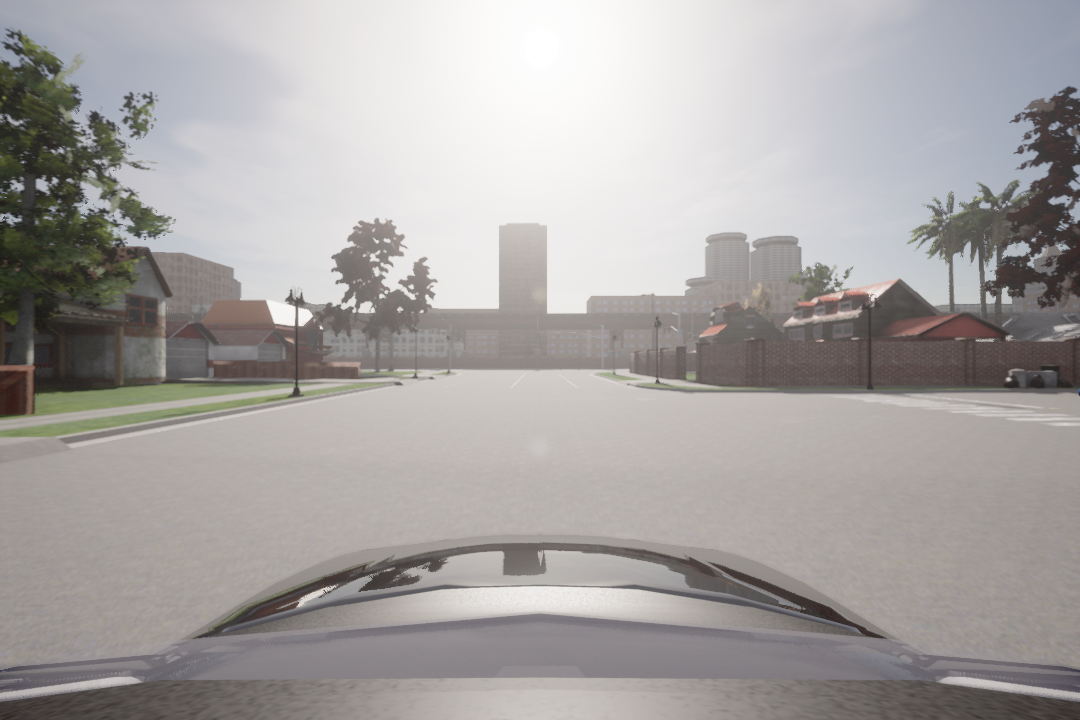walkside: (835, 393, 1025, 434)
